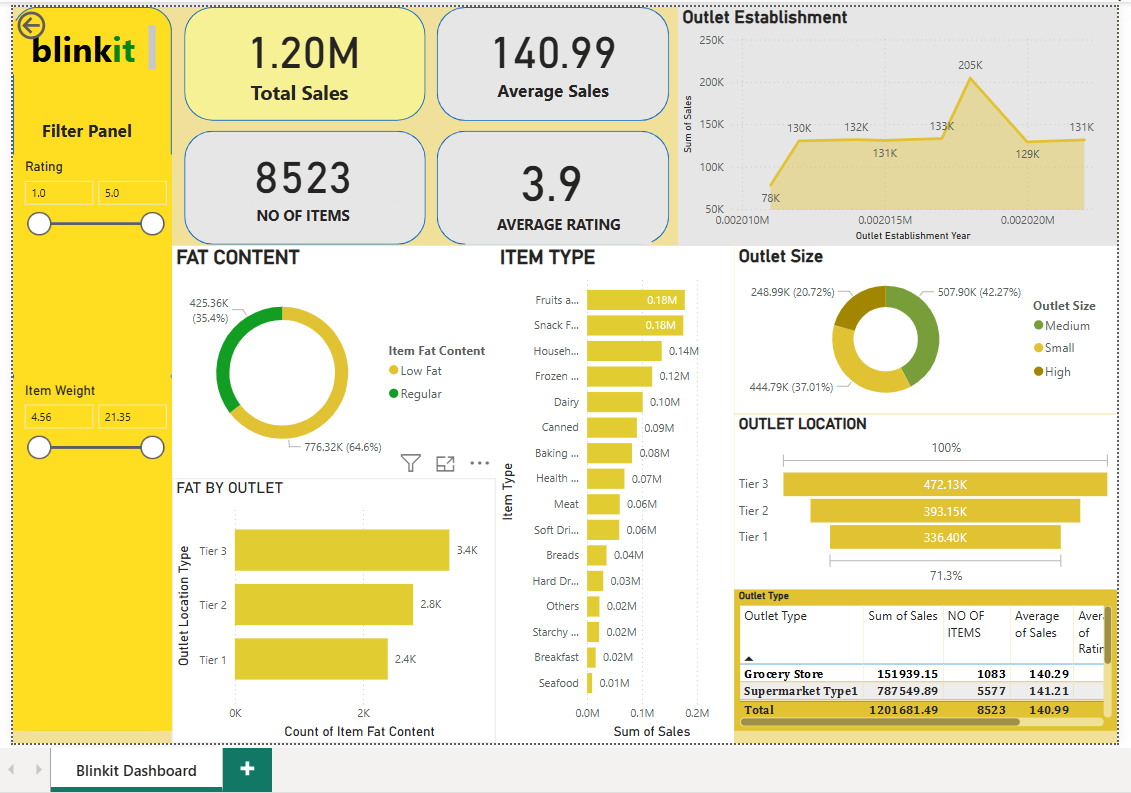

The dashboard page shown, as its layout file describes it:
{"tool":"powerbi","page":{"name":"Blinkit Dashboard","canvas":[1200,800],"ordinal":0},"visuals":[{"type":"shape","box":[186.1,0,262.2,123.6],"z":0},{"type":"shape","box":[460,135,252.5,123.8],"z":1000},{"type":"shape","box":[460,0,252.5,123.8],"z":2000},{"type":"shape","box":[186.2,135,262.5,123.8],"z":3000},{"type":"shape","box":[0,0,172.6,786.7],"z":4000},{"type":"textbox","box":[0,14.9,160.3,58.4],"z":5000},{"type":"card","fields":{"Values":["Sum(BlinkIT Grocery Data.Sales)"]},"box":[229.6,14.9,172.6,58.4],"z":6000},{"type":"textbox","box":[248.6,73.4,125,43.5],"z":7000},{"type":"donutChart","title":"FAT CONTENT","fields":{"Category":["BlinkIT Grocery Data.Item Fat Content"],"Y":["Sum(BlinkIT Grocery Data.Sales)"]},"box":[172.5,260,352.5,252.5],"z":8000},{"type":"barChart","title":"ITEM TYPE","fields":{"Category":["BlinkIT Grocery Data.Item Type"],"Y":["Sum(BlinkIT Grocery Data.Sales)"]},"box":[524.5,259.5,338.3,540.8],"z":9000},{"type":"card","fields":{"Values":["Avg(BlinkIT Grocery Data.Sales)"]},"box":[509.5,14.9,154.9,58.4],"z":10000},{"type":"textbox","box":[509.5,73.4,154.9,43.5],"z":11000},{"type":"barChart","title":"FAT BY OUTLET","fields":{"Category":["BlinkIT Grocery Data.Outlet Location Type"],"Y":["CountNonNull(BlinkIT Grocery Data.Item Fat Content)"]},"box":[172.6,512.2,351.9,288],"z":12000},{"type":"card","fields":{"Values":["Avg(BlinkIT Grocery Data.Rating)"]},"box":[476.9,149.5,217.4,70.7],"z":13000},{"type":"textbox","box":[492.5,211.2,201.2,47.5],"z":14000},{"type":"card","fields":{"Values":["ALL MEASURES.NO OF ITEM"]},"box":[230,148.8,172.5,62.5],"z":15000},{"type":"textbox","box":[259.5,210.6,159,31.3],"z":16000},{"type":"areaChart","title":"Outlet Establishment","fields":{"Category":["BlinkIT Grocery Data.Outlet Establishment Year"],"Y":["Sum(BlinkIT Grocery Data.Sales)"]},"box":[722.8,0,476.9,273.1],"z":17000},{"type":"donutChart","title":"Outlet  Size","fields":{"Category":["BlinkIT Grocery Data.Outlet Size"],"Y":["Sum(BlinkIT Grocery Data.Sales)"]},"box":[826.1,273.1,373.6,168.5],"z":18000},{"type":"funnel","title":"OUTLET LOCATION","fields":{"Category":["BlinkIT Grocery Data.Outlet Location Type"],"Y":["Sum(BlinkIT Grocery Data.Outlet Establishment Year)"]},"box":[826.1,442.9,373.6,190.2],"z":19000},{"type":"tableEx","title":"Outlet Type","fields":{"Values":["BlinkIT Grocery Data.Outlet Type","Sum(BlinkIT Grocery Data.Sales)","ALL MEASURES.NO OF ITEMS","Avg(BlinkIT Grocery Data.Sales)","Avg(BlinkIT Grocery Data.Rating)","Sum(BlinkIT Grocery Data.Item Visibility)"]},"box":[713.3,633.2,486.4,167.1],"z":20000},{"type":"textbox","box":[0,116.8,160.3,48.9],"z":21000},{"type":"slicer","fields":{"Values":["BlinkIT Grocery Data.Rating"]},"box":[0,160.3,172.6,239.1],"z":22000},{"type":"actionButton","box":[0,0,100,40],"z":23000},{"type":"slicer","fields":{"Values":["BlinkIT Grocery Data.Item Weight"]},"box":[0,403.5,172.6,383.2],"z":24000}]}

Visuals, with their boxes on the page's 1200x800 design canvas (x1, y1, x2, y2). These are canvas units, not pixel positions in the 1131x793 screenshot, which may show the page scaled, cropped or inside an application window:
shape: (186, 0, 448, 124)
shape: (460, 135, 712, 259)
shape: (460, 0, 712, 124)
shape: (186, 135, 449, 259)
shape: (0, 0, 173, 787)
textbox: (0, 15, 160, 73)
card - Sum(BlinkIT Grocery Data.Sales): (230, 15, 402, 73)
textbox: (249, 73, 374, 117)
"FAT CONTENT" donutChart: (172, 260, 525, 512)
"ITEM TYPE" barChart: (524, 260, 863, 800)
card - Avg(BlinkIT Grocery Data.Sales): (510, 15, 664, 73)
textbox: (510, 73, 664, 117)
"FAT BY OUTLET" barChart: (173, 512, 524, 800)
card - Avg(BlinkIT Grocery Data.Rating): (477, 150, 694, 220)
textbox: (492, 211, 694, 259)
card - ALL MEASURES.NO OF ITEM: (230, 149, 402, 211)
textbox: (260, 211, 418, 242)
"Outlet Establishment" areaChart: (723, 0, 1200, 273)
"Outlet  Size" donutChart: (826, 273, 1200, 442)
"OUTLET LOCATION" funnel: (826, 443, 1200, 633)
"Outlet Type" tableEx: (713, 633, 1200, 800)
textbox: (0, 117, 160, 166)
slicer - BlinkIT Grocery Data.Rating: (0, 160, 173, 399)
actionButton: (0, 0, 100, 40)
slicer - BlinkIT Grocery Data.Item Weight: (0, 404, 173, 787)
